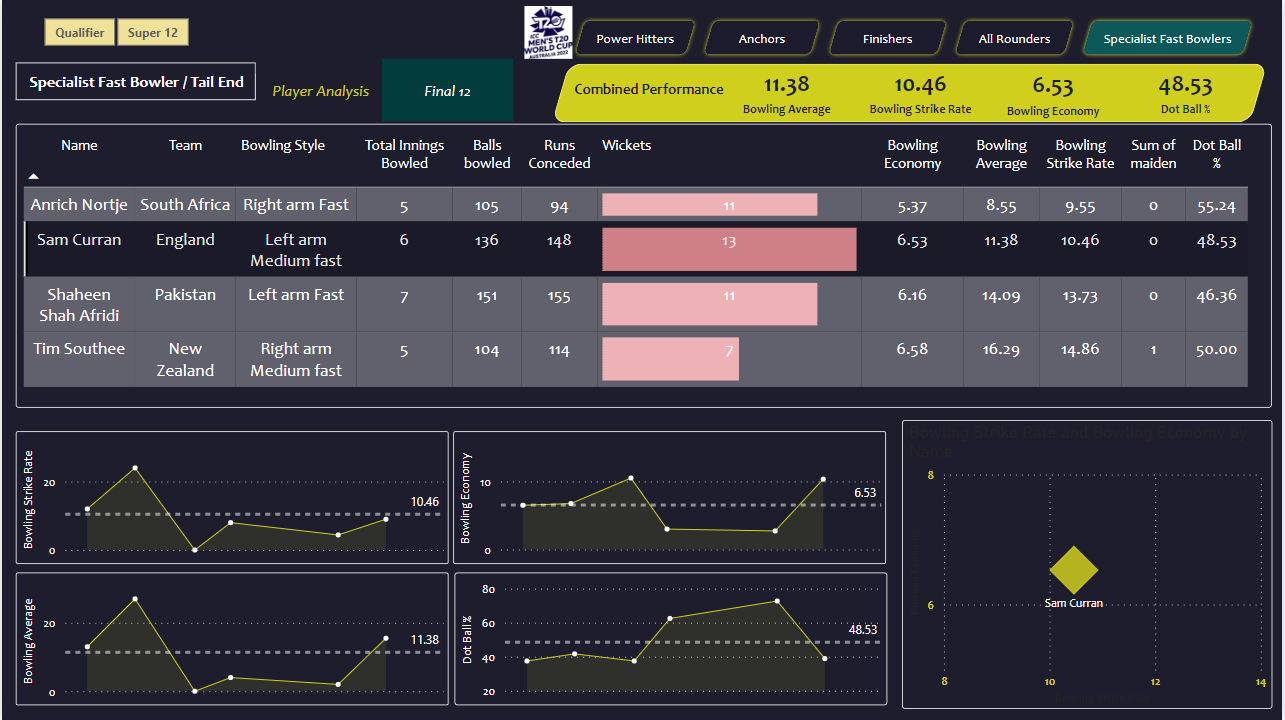

The page's visual inventory and layout, read from the dashboard file:
{"tool":"powerbi","page":{"name":"Specialist Fast Bowlers/Tail End","canvas":[1280,720],"ordinal":4},"visuals":[{"type":"tableEx","fields":{"Values":["dim_players.name","dim_players.team","dim_players.bowlingStyle","Key_majors.Total Innings Bowled","Key_majors.Balls bowled","Key_majors.Runs Conceded","Key_majors.Wickets","Key_majors.Bowling Economy","Key_majors.Bowling Average","Key_majors.Bowling Strike Rate","Sum(fact_bowling_summary.maiden)","Key_majors.Dot Ball %"]},"box":[13.8,123.8,1256.2,283.8],"z":0},{"type":"stackedAreaChart","fields":{"Category":["dim_match_summary.matchDate.Variation.Date Hierarchy.Day"],"Y":["Key_majors.Bowling Strike Rate"]},"box":[13.3,431.8,433,132.7],"z":1000},{"type":"stackedAreaChart","fields":{"Category":["dim_match_summary.matchDate.Variation.Date Hierarchy.Day"],"Y":["Key_majors.Bowling Economy"]},"box":[451.1,431.8,433,132.7],"z":2000},{"type":"stackedAreaChart","fields":{"Category":["dim_match_summary.matchDate.Variation.Date Hierarchy.Day"],"Y":["Key_majors.Dot Ball %"]},"box":[452,572.9,433,132.7],"z":3000},{"type":"stackedAreaChart","fields":{"Category":["dim_match_summary.matchDate.Variation.Date Hierarchy.Day"],"Y":["Key_majors.Bowling Average"]},"box":[13.3,572.9,433,132.7],"z":4000},{"type":"slicer","fields":{"Values":["dim_match_summary.Stage"]},"box":[15.7,10.9,194.2,41],"z":5000},{"type":"shape","box":[13.8,62.5,240,37.5],"z":6000},{"type":"actionButton","box":[568.8,16.2,128.8,42.5],"z":7000},{"type":"actionButton","box":[697.5,16.2,125,42.5],"z":8000},{"type":"actionButton","box":[822.5,16.2,126.2,42.5],"z":9000},{"type":"actionButton","box":[948.8,16.2,127.5,42.5],"z":10000},{"type":"actionButton","box":[1076.2,16.2,178.8,42.5],"z":11000},{"type":"scatterChart","fields":{"Category":["dim_players.name"],"X":["Key_majors.Bowling Strike Rate"],"Y":["Key_majors.Bowling Economy"]},"box":[900,420,370,288.8],"z":12000},{"type":"actionButton","box":[253.8,58.8,130,62.5],"z":13000},{"type":"image","box":[511.2,1.2,70,62.5],"z":14000},{"type":"shape","box":[550,63.8,715,58.8],"z":14001},{"type":"shape","box":[568.8,71.2,156.2,36.2],"z":14002},{"type":"card","fields":{"Values":["Key_majors.Bowling Average"]},"box":[718.8,58.8,132.5,63.8],"z":14003},{"type":"card","fields":{"Values":["Key_majors.Bowling Strike Rate"]},"box":[852.5,58.8,132.5,63.8],"z":14004},{"type":"card","fields":{"Values":["Key_majors.Bowling Economy"]},"box":[985,60,132.5,63.8],"z":14005},{"type":"card","fields":{"Values":["Key_majors.Dot Ball %"]},"box":[1117.5,58.8,132.5,63.8],"z":14006},{"type":"shape","box":[628.8,75,578.8,36.2],"z":14007},{"type":"actionButton","box":[380,58.8,131.2,62.5],"z":14008}]}

Visuals, with their boxes in screenshot pixels (x1, y1, x2, y2), scaled from the page's 1280x720 canvas onto the 1285x720 screenshot:
tableEx - dim_players.name x dim_players.team: <box>14,124,1275,408</box>
stackedAreaChart - dim_match_summary.matchDate.Variation.Date Hierarchy.Day x Key_majors.Bowling Strike Rate: <box>13,432,448,564</box>
stackedAreaChart - dim_match_summary.matchDate.Variation.Date Hierarchy.Day x Key_majors.Bowling Economy: <box>453,432,888,564</box>
stackedAreaChart - dim_match_summary.matchDate.Variation.Date Hierarchy.Day x Key_majors.Dot Ball %: <box>454,573,888,706</box>
stackedAreaChart - dim_match_summary.matchDate.Variation.Date Hierarchy.Day x Key_majors.Bowling Average: <box>13,573,448,706</box>
slicer - dim_match_summary.Stage: <box>16,11,211,52</box>
shape: <box>14,62,255,100</box>
actionButton: <box>571,16,700,59</box>
actionButton: <box>700,16,826,59</box>
actionButton: <box>826,16,952,59</box>
actionButton: <box>953,16,1081,59</box>
actionButton: <box>1080,16,1260,59</box>
scatterChart - dim_players.name x Key_majors.Bowling Strike Rate: <box>904,420,1275,709</box>
actionButton: <box>255,59,385,121</box>
image: <box>513,1,583,64</box>
shape: <box>552,64,1270,123</box>
shape: <box>571,71,728,107</box>
card - Key_majors.Bowling Average: <box>722,59,855,123</box>
card - Key_majors.Bowling Strike Rate: <box>856,59,989,123</box>
card - Key_majors.Bowling Economy: <box>989,60,1122,124</box>
card - Key_majors.Dot Ball %: <box>1122,59,1255,123</box>
shape: <box>631,75,1212,111</box>
actionButton: <box>381,59,513,121</box>
